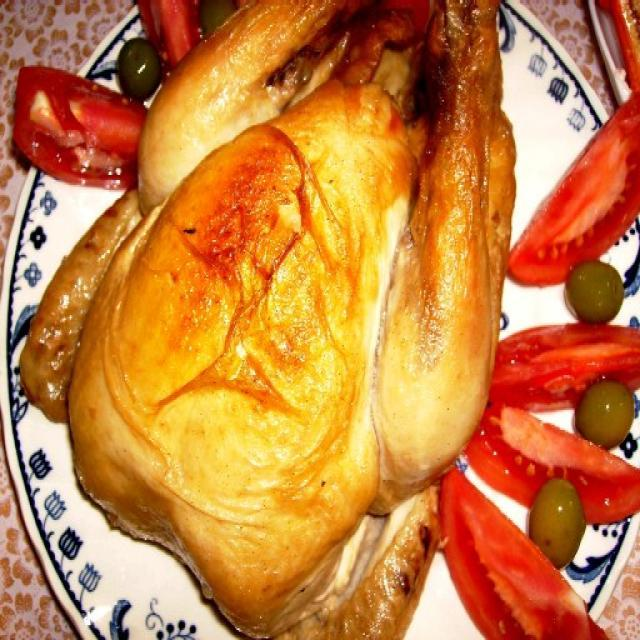Chicken: (45, 10, 499, 640)
